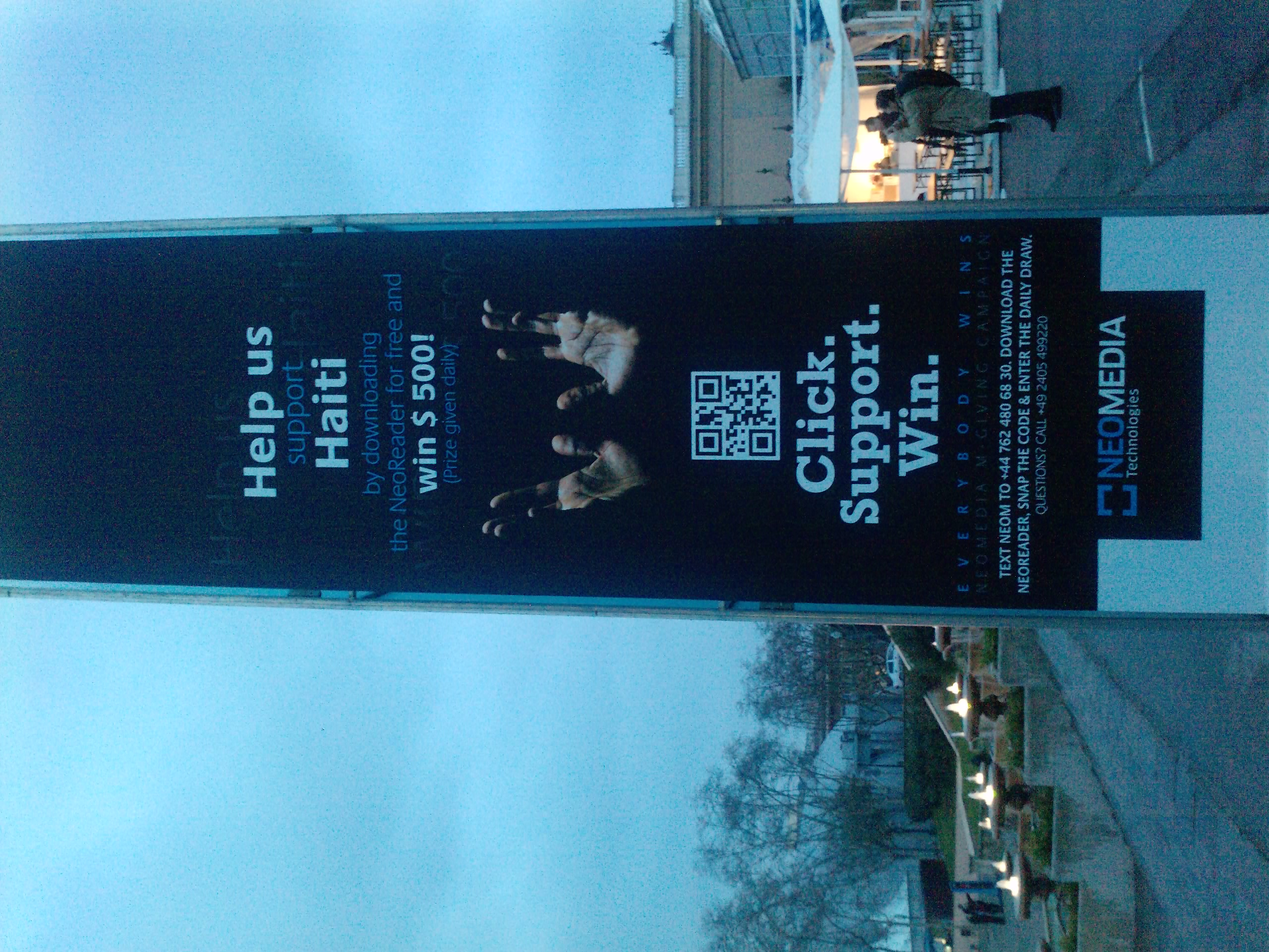QR-CODE: (695, 375, 776, 456)
